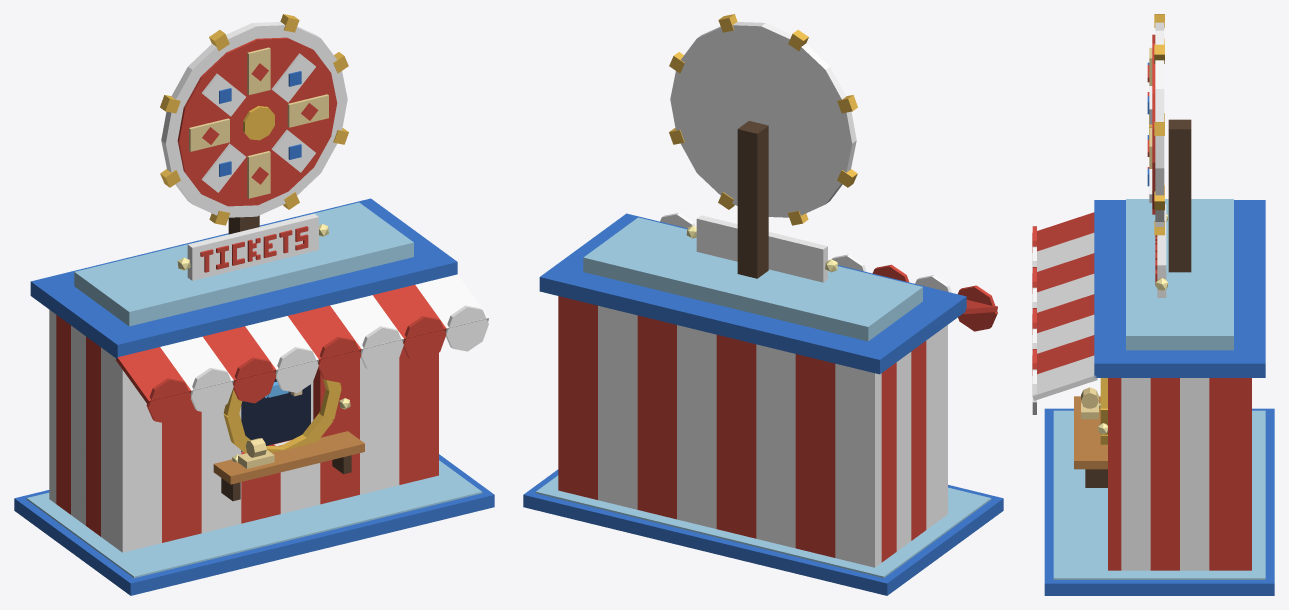
The model's file is CatCafe_Camp_WaterPark_TicketBooth.glb.
3 views of the same model, side by side, from view 1: azimuth 30°, elevation 25°; view 2: azimuth 150°, elevation 25°; view 3: azimuth 270°, elevation 25° (orthographic).
Visible parts, largest first — view 1: CatCafe_Camp_WaterPark_TicketBooth, CatCafe_Camp_WaterPark_TicketBooth_Sign_Spin; view 2: CatCafe_Camp_WaterPark_TicketBooth, CatCafe_Camp_WaterPark_TicketBooth_Sign_Spin; view 3: CatCafe_Camp_WaterPark_TicketBooth, CatCafe_Camp_WaterPark_TicketBooth_Sign_Spin.
Part boxes in pixels (<box>): CatCafe_Camp_WaterPark_TicketBooth: <box>14,198,494,595</box>; CatCafe_Camp_WaterPark_TicketBooth_Sign_Spin: <box>160,14,348,225</box>; CatCafe_Camp_WaterPark_TicketBooth: <box>523,121,1003,595</box>; CatCafe_Camp_WaterPark_TicketBooth_Sign_Spin: <box>669,14,857,225</box>; CatCafe_Camp_WaterPark_TicketBooth: <box>1032,119,1274,595</box>; CatCafe_Camp_WaterPark_TicketBooth_Sign_Spin: <box>1147,14,1164,235</box>.
Size of the model in its own units: 9.2 by 11.72 by 5.38.
1 material, 1 textured.
